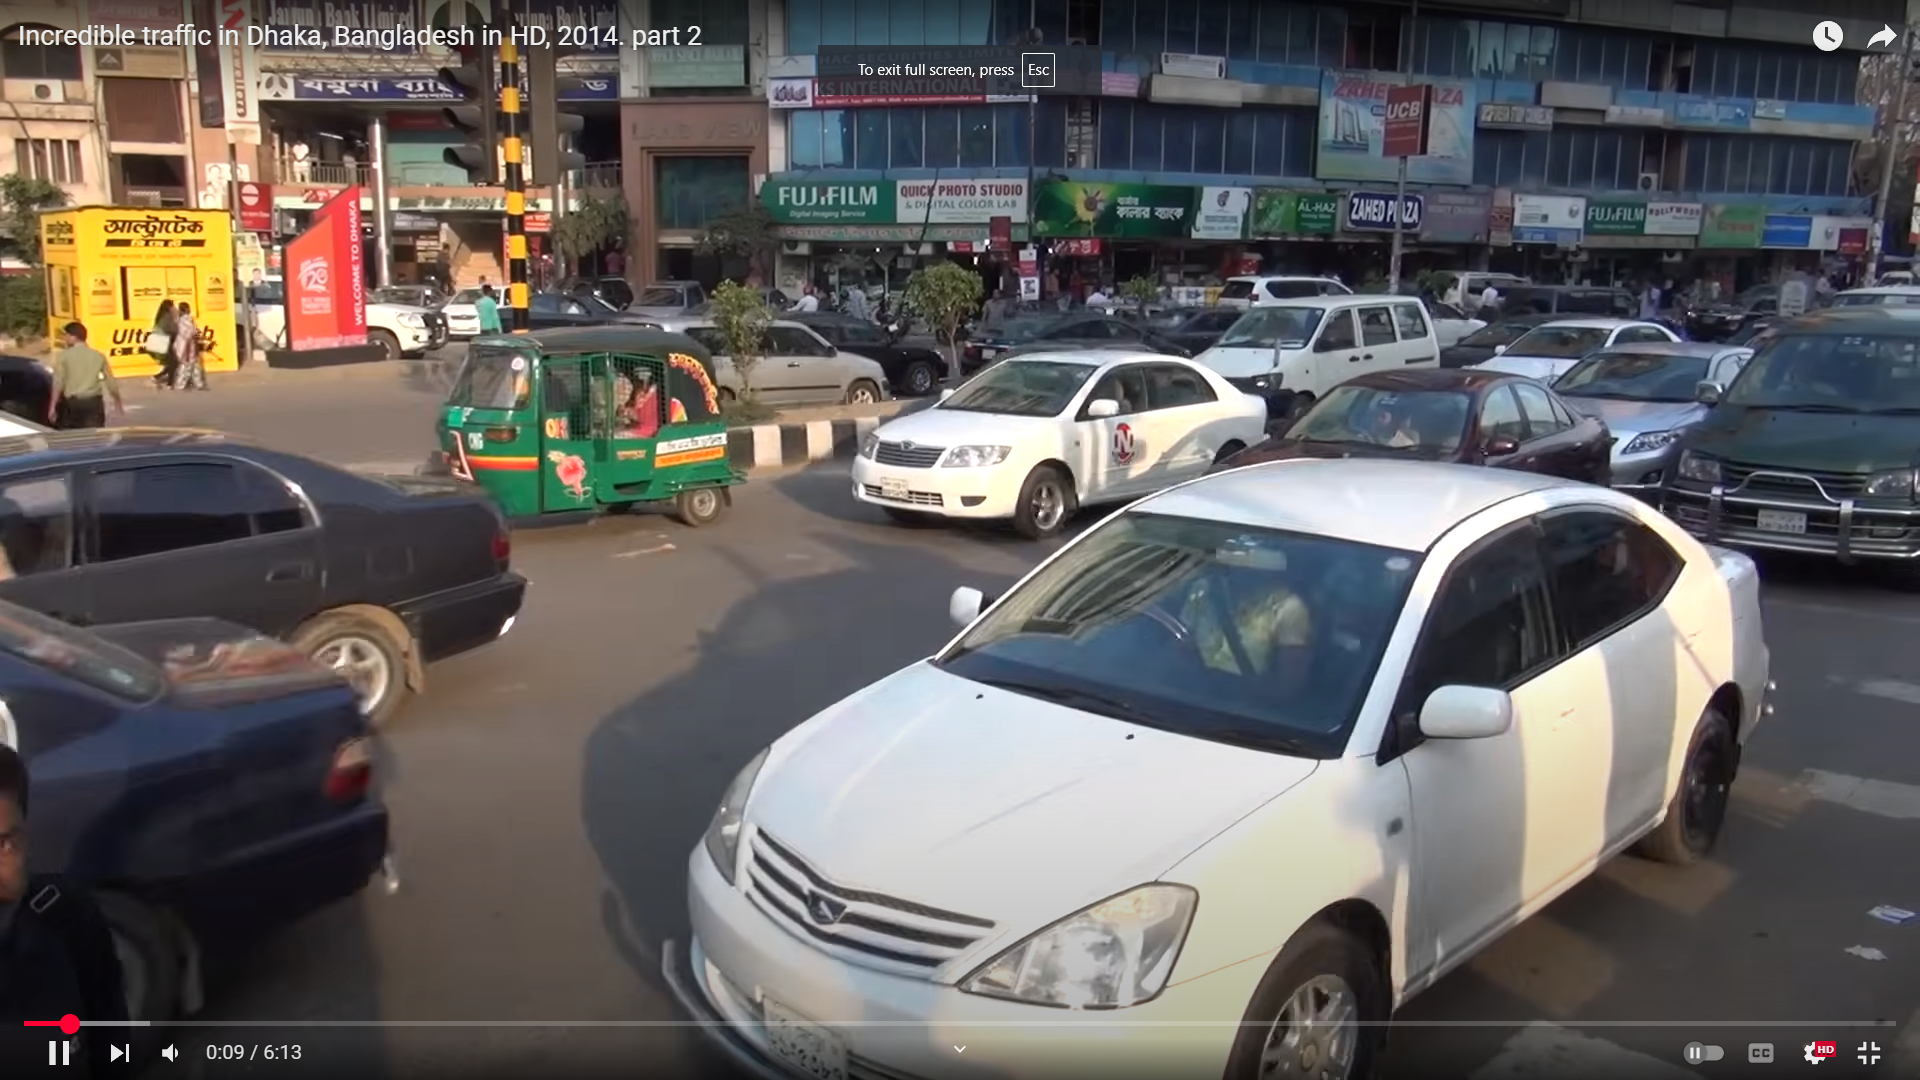CNG: (505, 330, 650, 506)
Car: (666, 458, 1818, 1077), (845, 336, 1065, 533)
